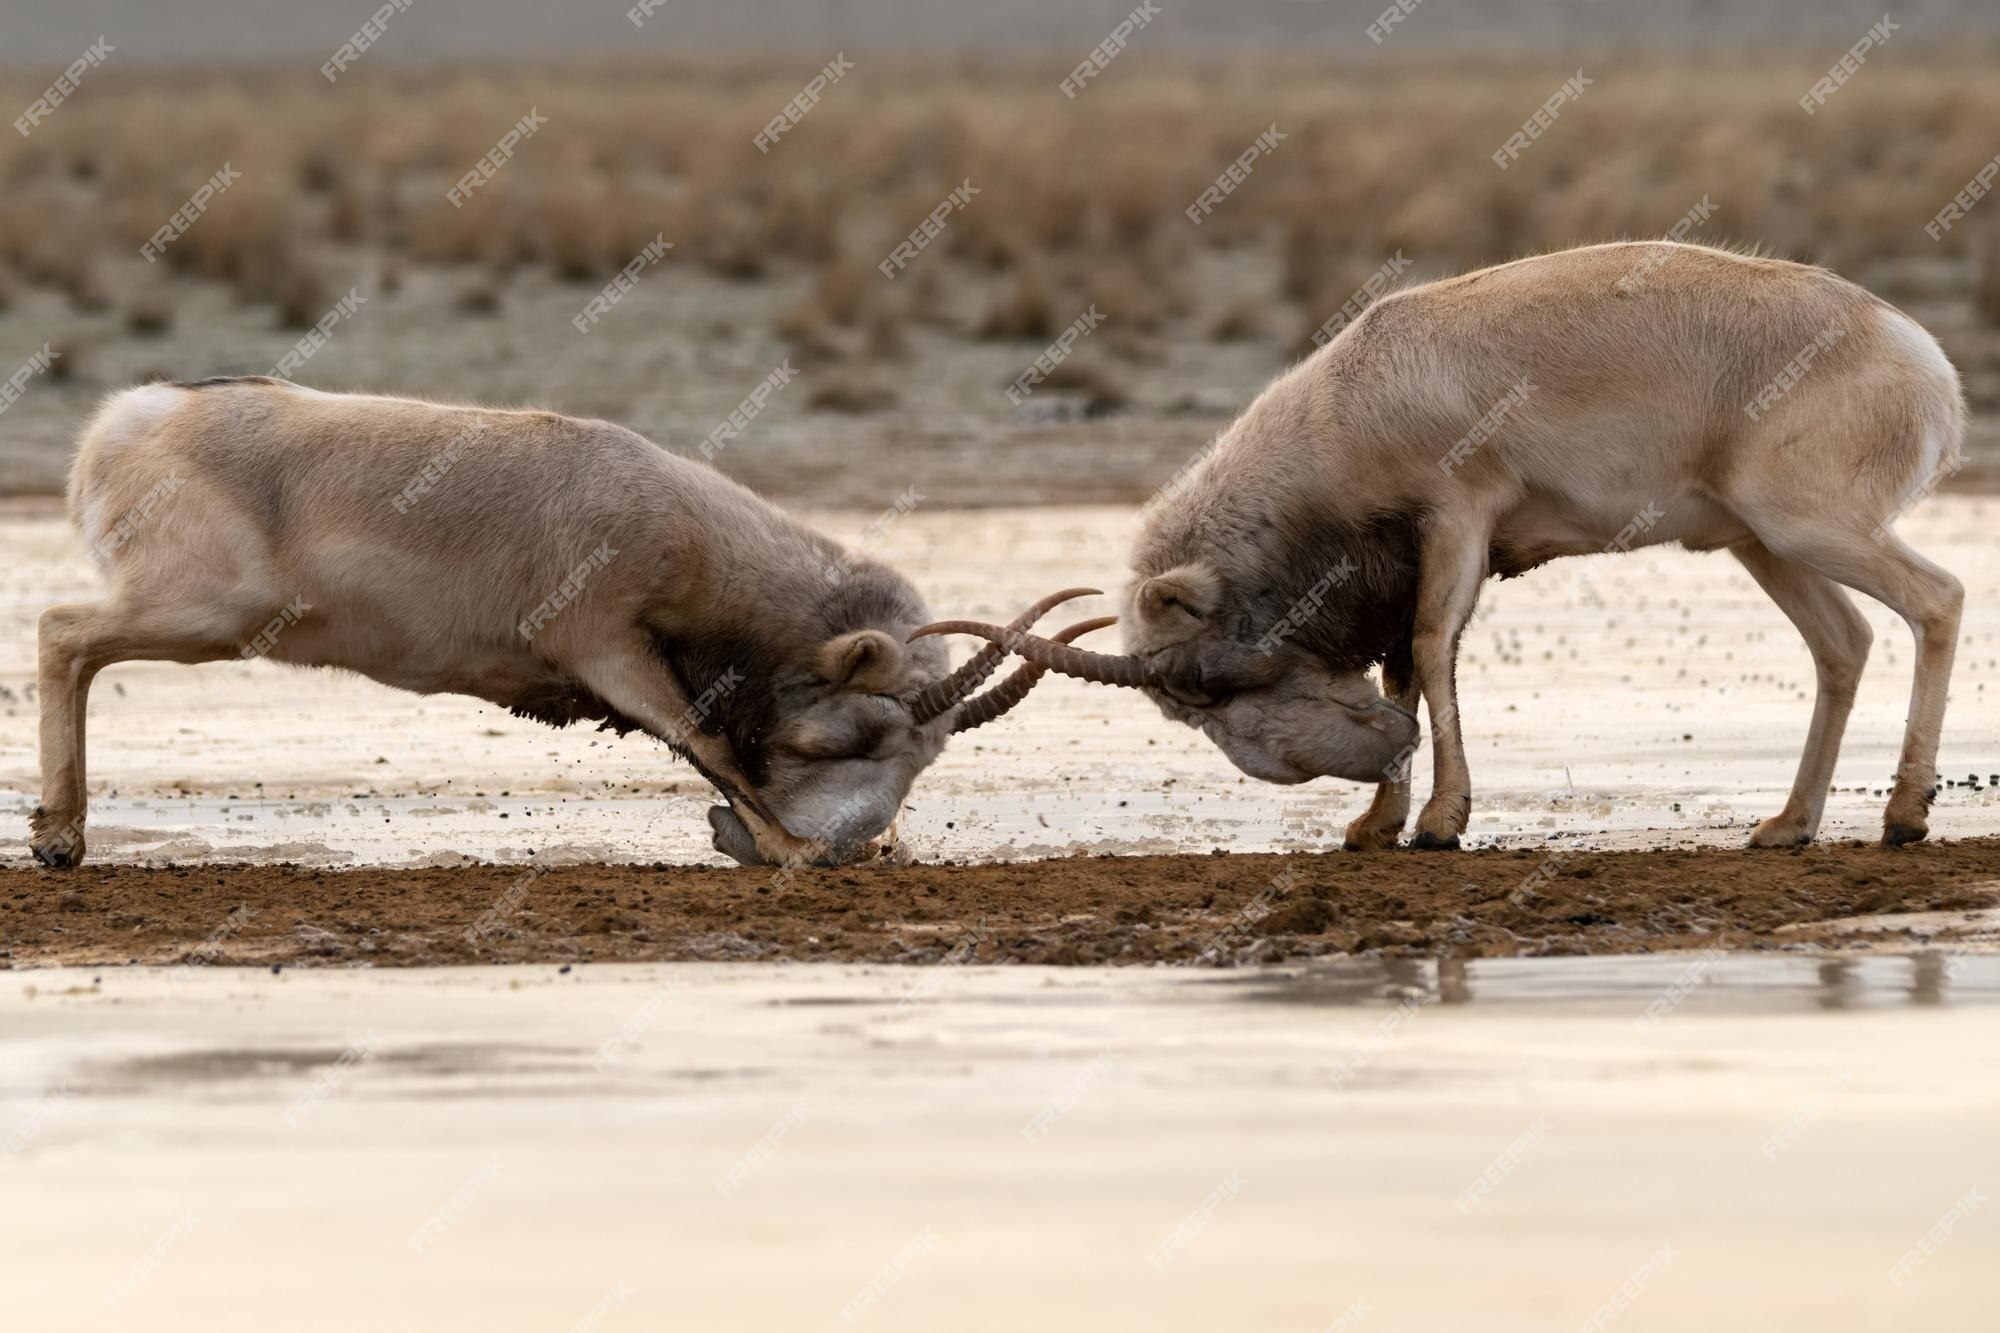saiga: (1004, 226, 2000, 897), (48, 341, 1080, 934)
